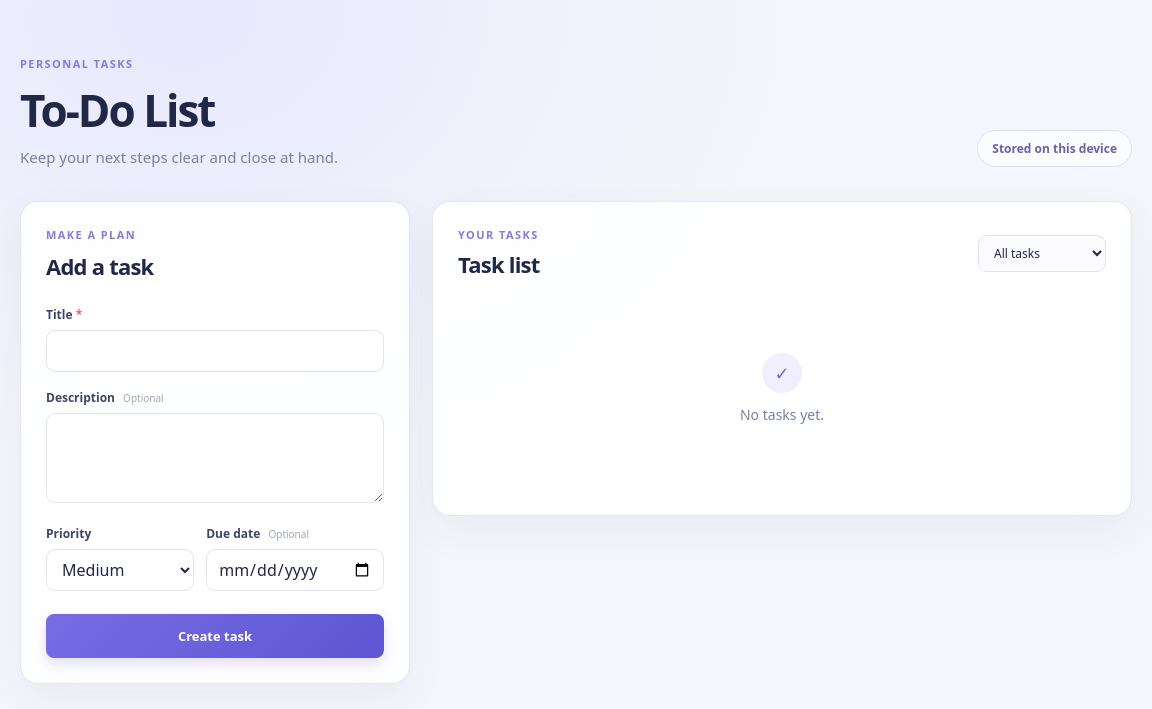
Test: task list and creation UI (P-US-01, P-US-02, P-US-05) › shows the empty state and creates a task with defaults and success feedback
Expected: the text "No tasks yet." is shown, [740,404,824,424]
Type "Call the dentist" into the field labelled "Title *" at coordinates (215, 351), box [46,330,384,372]
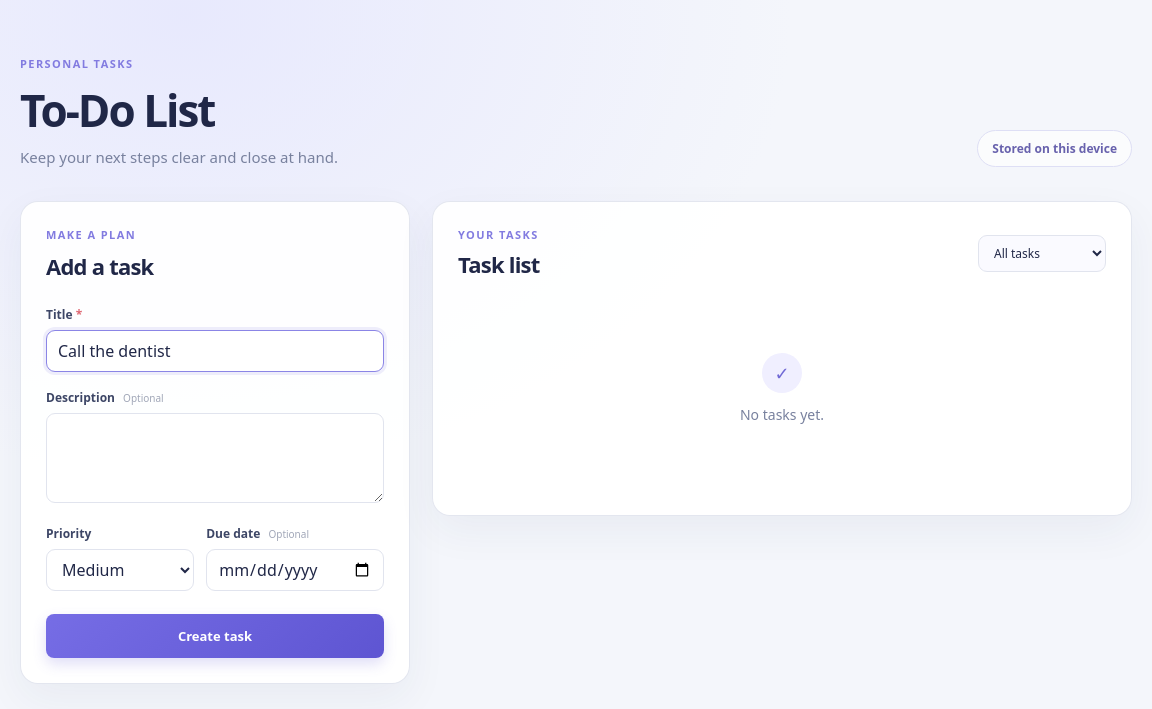
Click the button "Create task" at coordinates (215, 636), box [46,614,384,658]
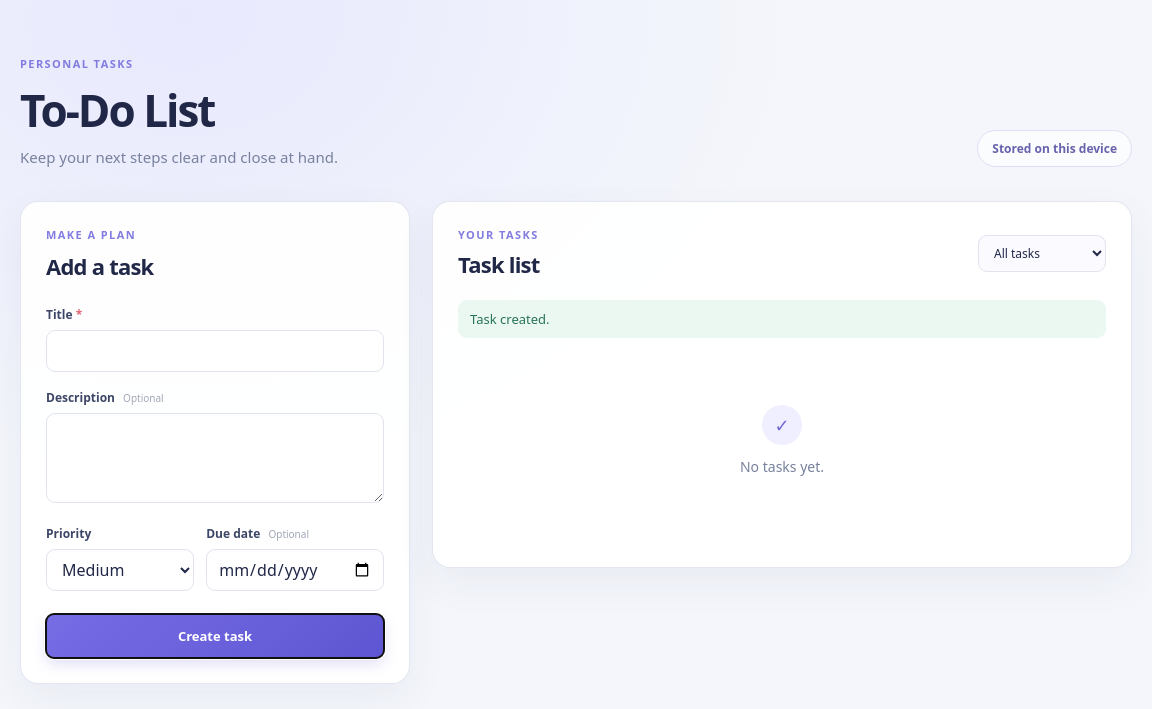
Result: the text "Task created." is shown at [458,300,1106,338]
